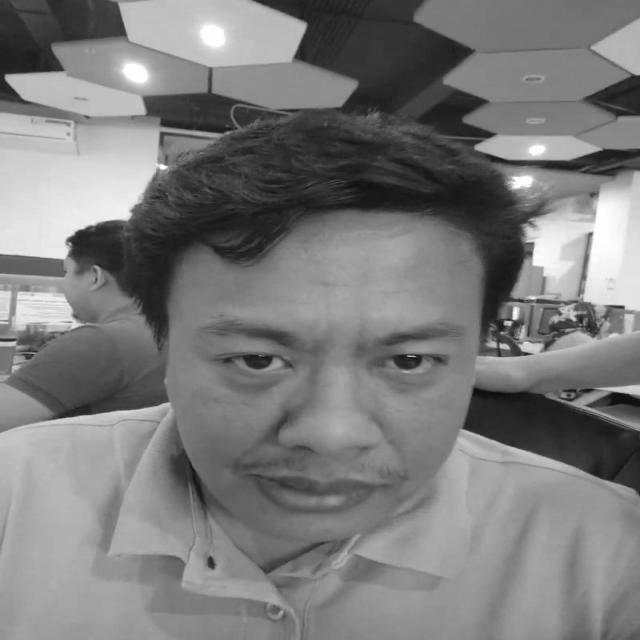real: (174, 237, 480, 543)
